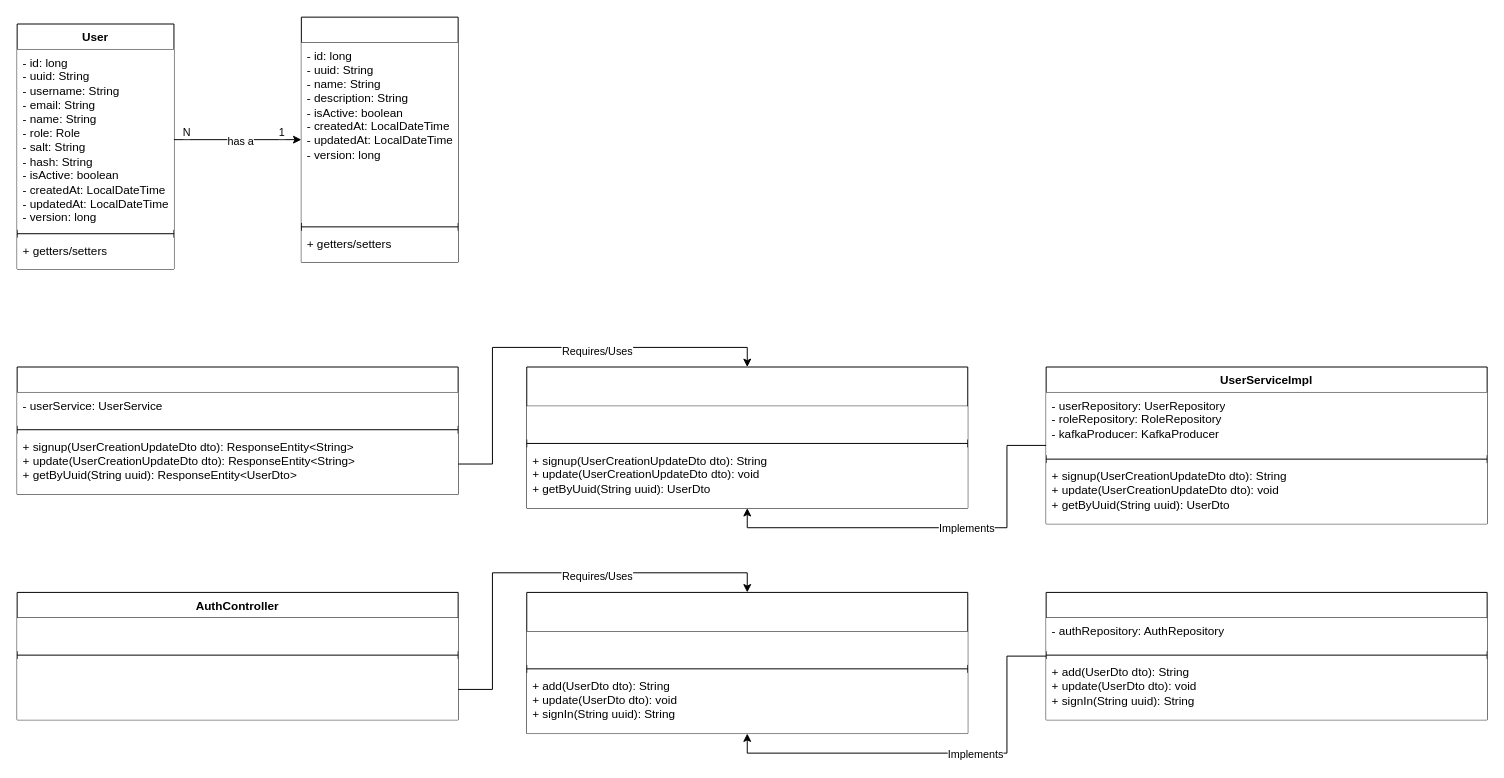
Some shapes in this 1504 by 778 pixel diagram are drawn without their labels. The box of each missing label's shape, as (x1, y1, x2, y2) in pixels:
+ signIn(SignInDto dto): ResponseEntity<String>: (17, 659, 458, 719)
- authService: AuthService: (17, 617, 458, 651)
<< interface >> AuthService: (526, 591, 968, 734)
<< interface >> UserService: (526, 366, 968, 508)
AuthServiceImpl: (1045, 591, 1487, 720)
Role: (300, 16, 458, 262)
UserController: (16, 366, 458, 494)
